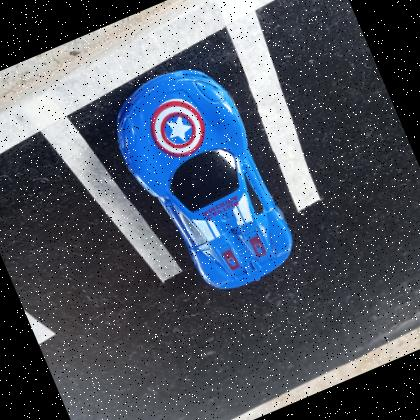Car: (115, 68, 293, 289)
